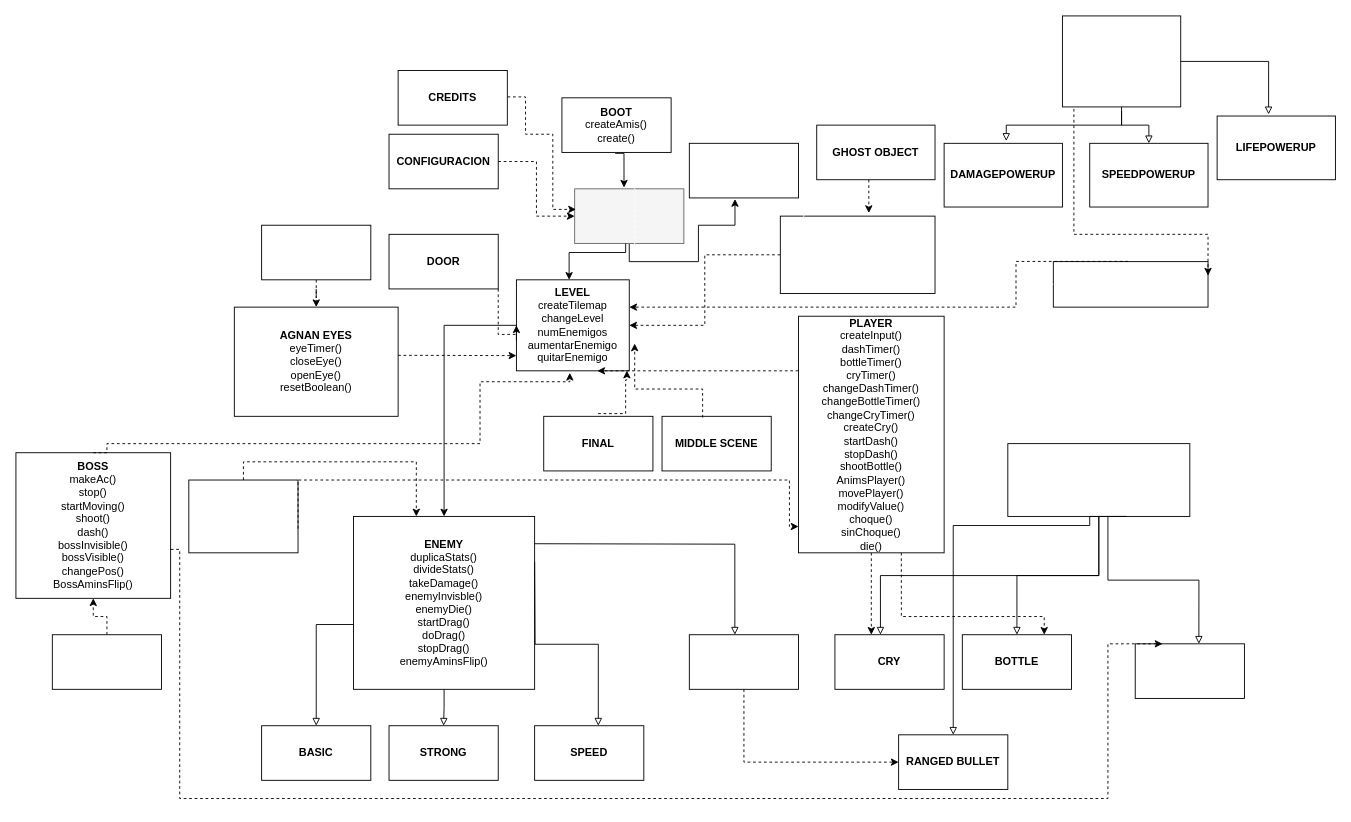
This 1351x822 diagram has some shape labels left out. The box of each missing label's shape, as (x1, y1, x2, y2) in pixels:
AGNAN LIFE takeDamage() Die(): (51, 634, 162, 689)
AREA changeTimer(): (261, 224, 371, 280)
BULLET bulletAnims(): (1007, 443, 1190, 516)
CHEST: (1052, 261, 1208, 307)
CONTROL: (688, 142, 799, 198)
GHOST BULLET: (1134, 643, 1244, 698)
LIFEBAR modify() draw() getValue(): (188, 479, 298, 553)
MENU: (574, 188, 684, 243)
MOVING OBJECT starDrag() doDrag() stopDrag(): (779, 215, 935, 293)
POWER-UP powerUpVisible() powerUpInvisible() effect(): (1062, 15, 1181, 107)
RANGED enemyShoot(): (688, 634, 799, 689)
